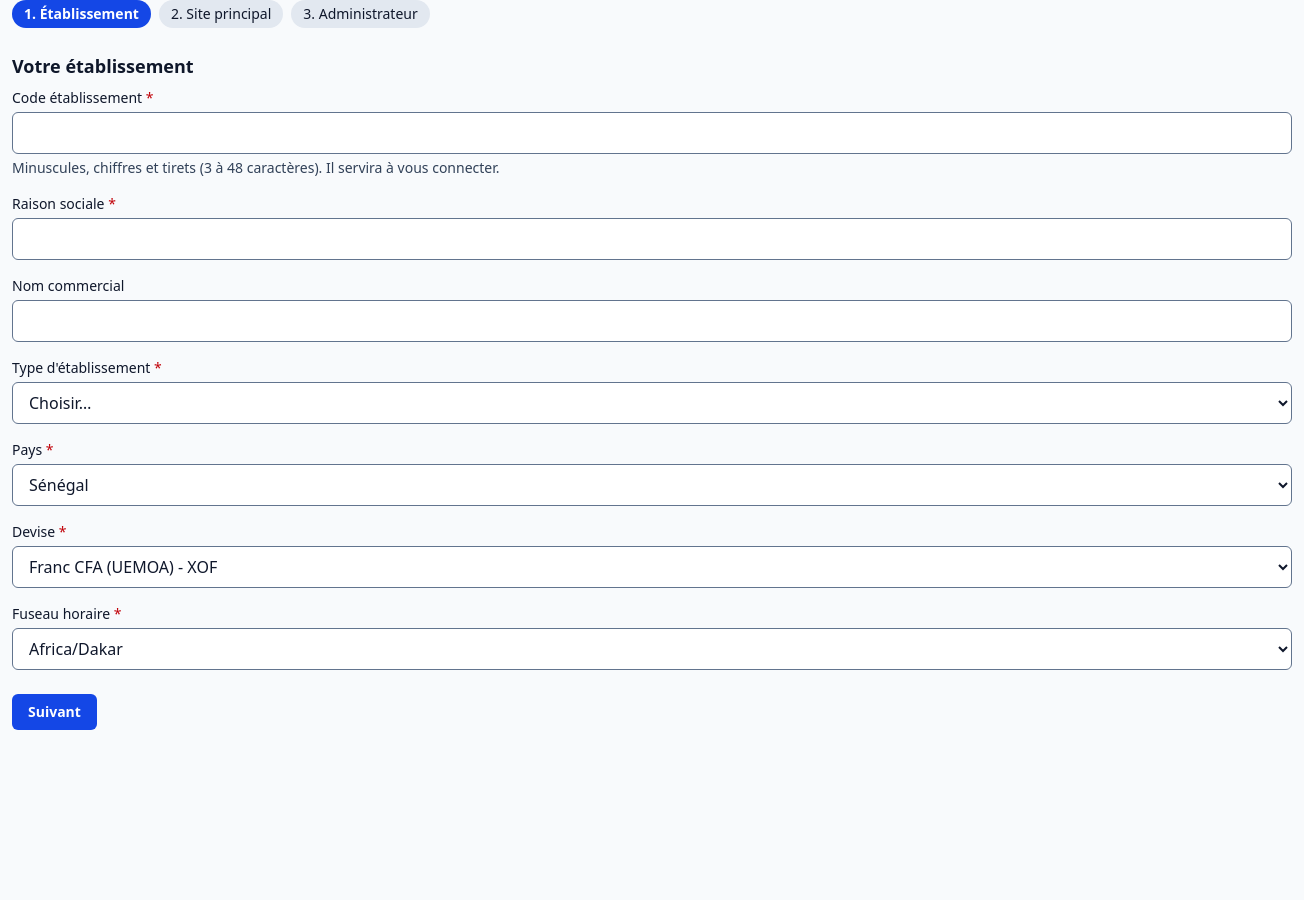
Test: SignupWizard › pré-remplit devise et fuseau selon le pays
Select "Cameroun" in the dropdown labelled "Pays *": [652, 485] box [12,464,1292,506]
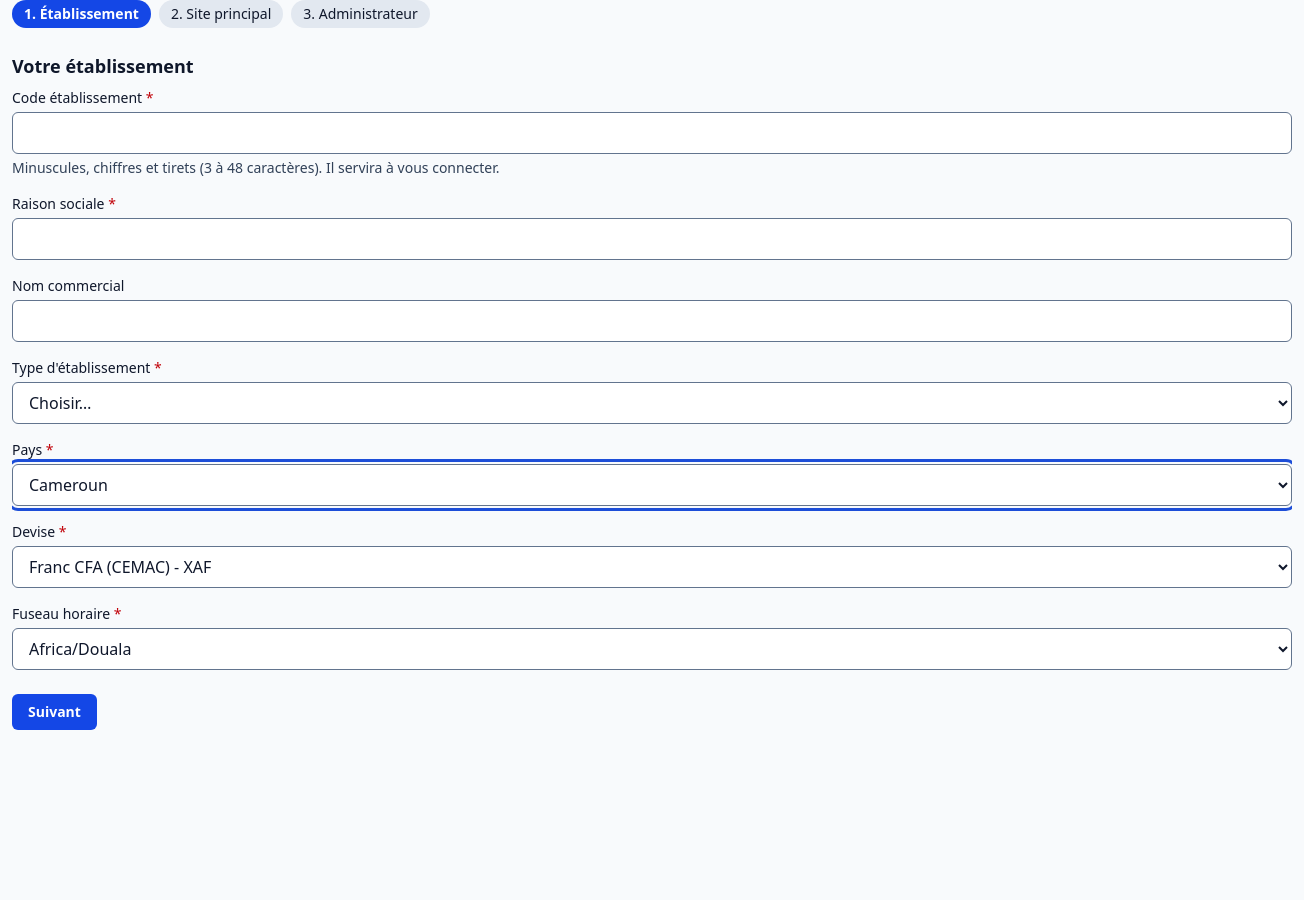
Check: the dropdown labelled "Devise *" shows "Franc CFA (CEMAC) - XAF", box [12,546,1292,588]
Check: the dropdown labelled "Fuseau horaire *" shows "Africa/Douala", box [12,628,1292,670]
